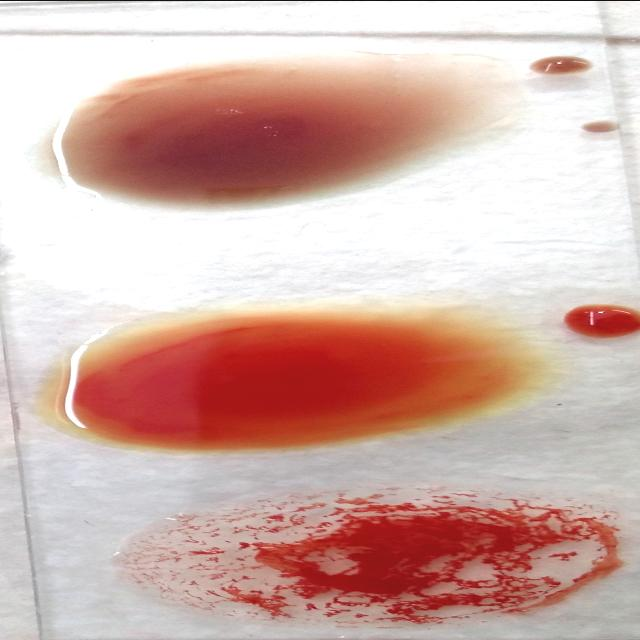D: (110, 489, 626, 628)
